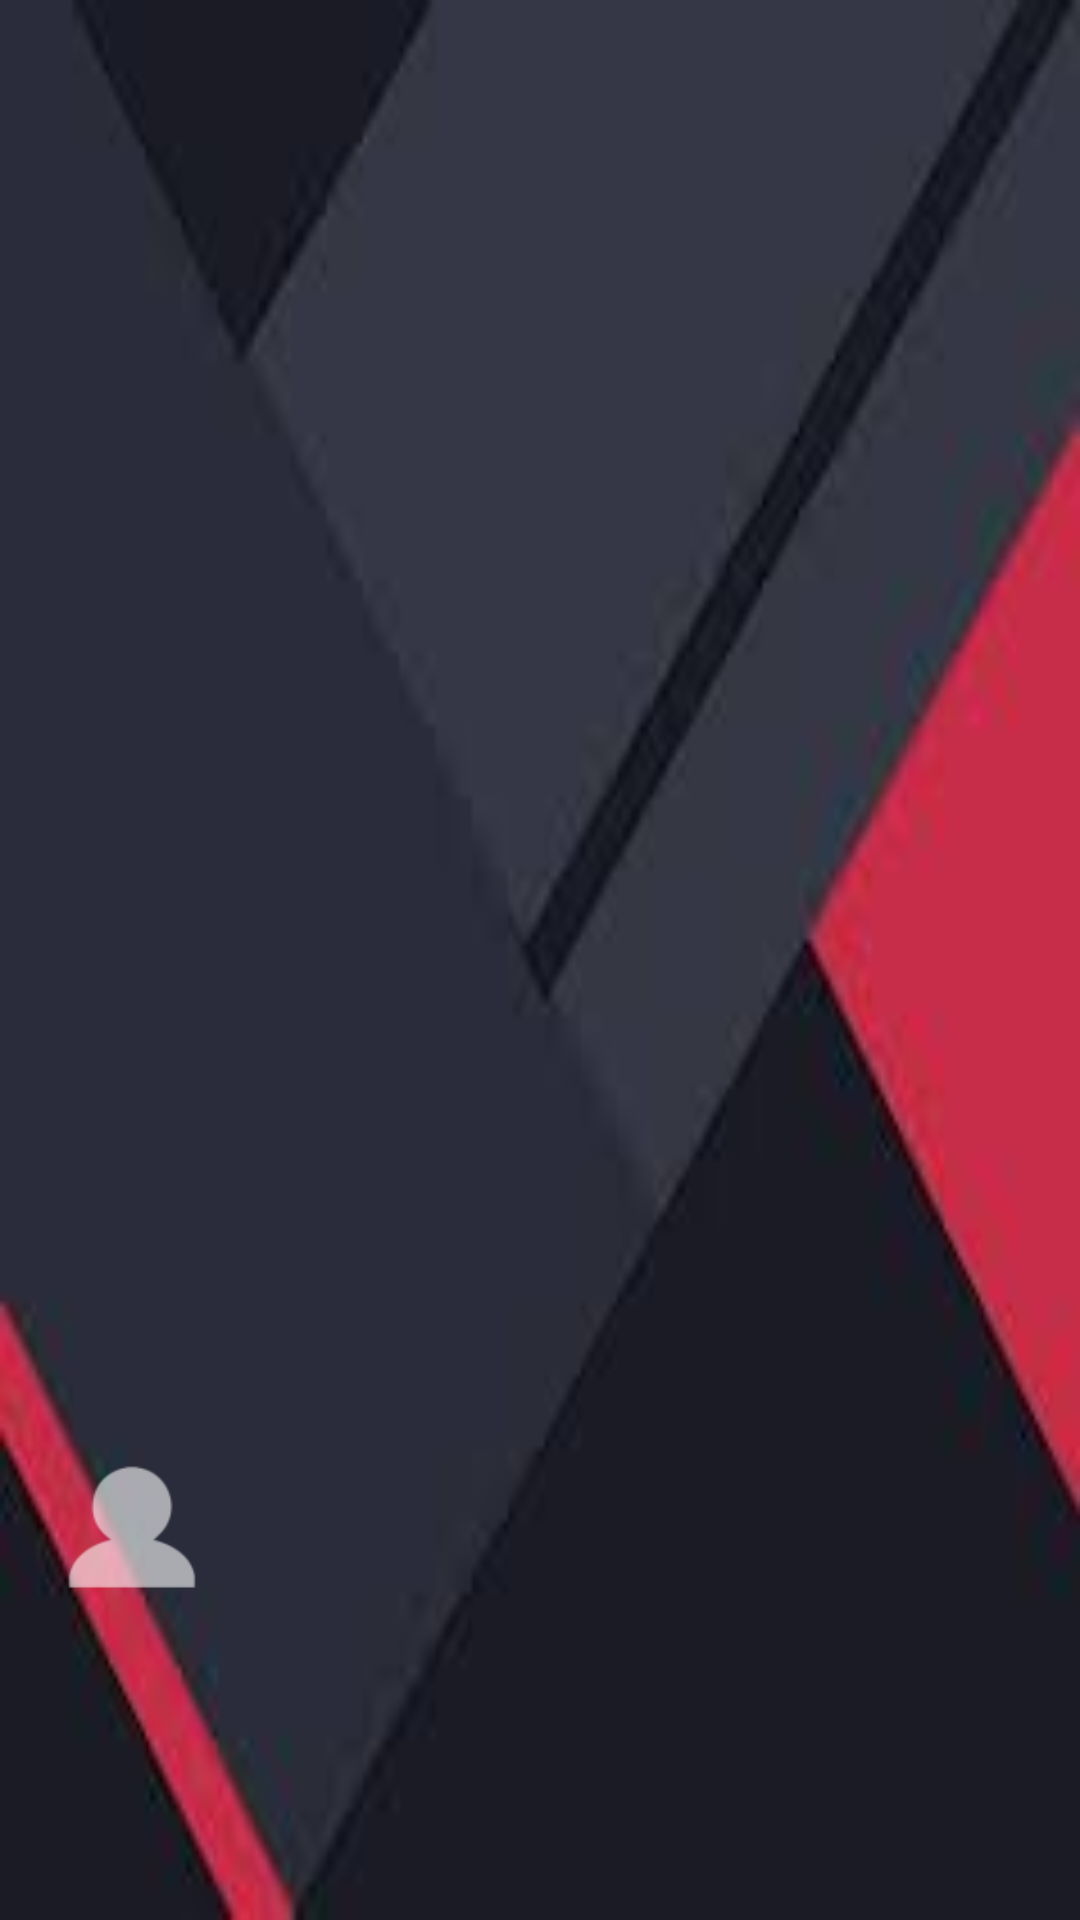

Point at icon controls on the screen. Image size 1080x1920, points as (x,y).
user: (121,1528)
